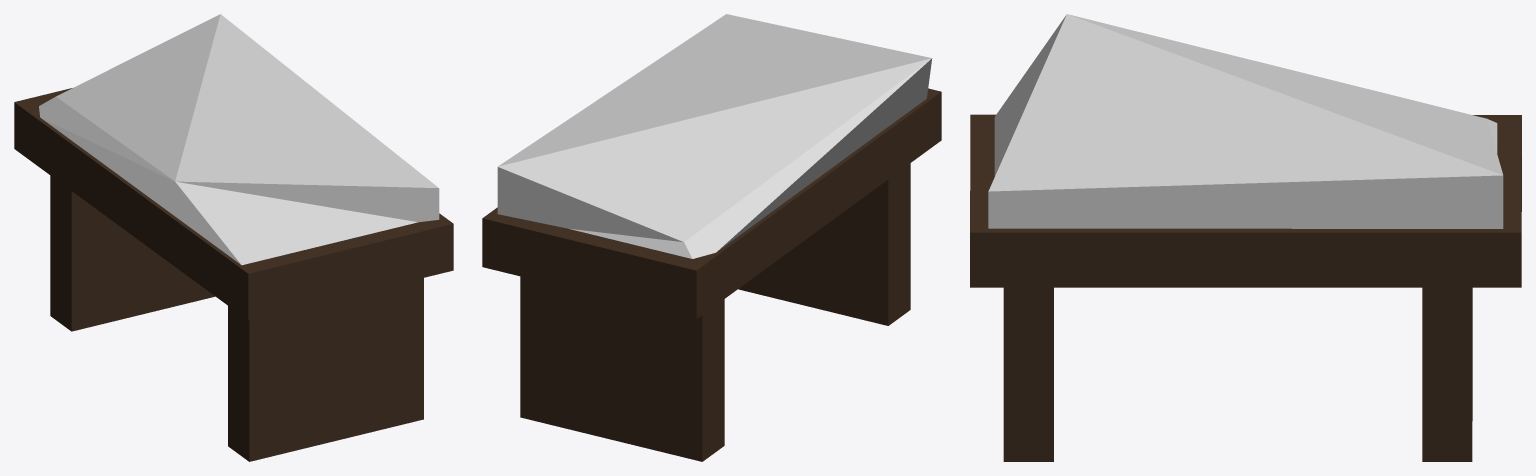
Rendered from bench_2_snow_mat.fbx.
3 renders of one model, left to right at view 1: azimuth 30°, elevation 25°; view 2: azimuth 150°, elevation 25°; view 3: azimuth 270°, elevation 25°, orthographic. The views are drawn at different scales.
Visible parts, largest first — view 1: bench_2_snow_mat; view 2: bench_2_snow_mat; view 3: bench_2_snow_mat.
Boxes of the visible parts, left/top/right/bottom form: bench_2_snow_mat: left=14, top=14, right=453, bottom=461; bench_2_snow_mat: left=482, top=14, right=941, bottom=461; bench_2_snow_mat: left=970, top=14, right=1521, bottom=461.
Bounding box in the file's own units: 22.28 × 24.39 × 38.08.
